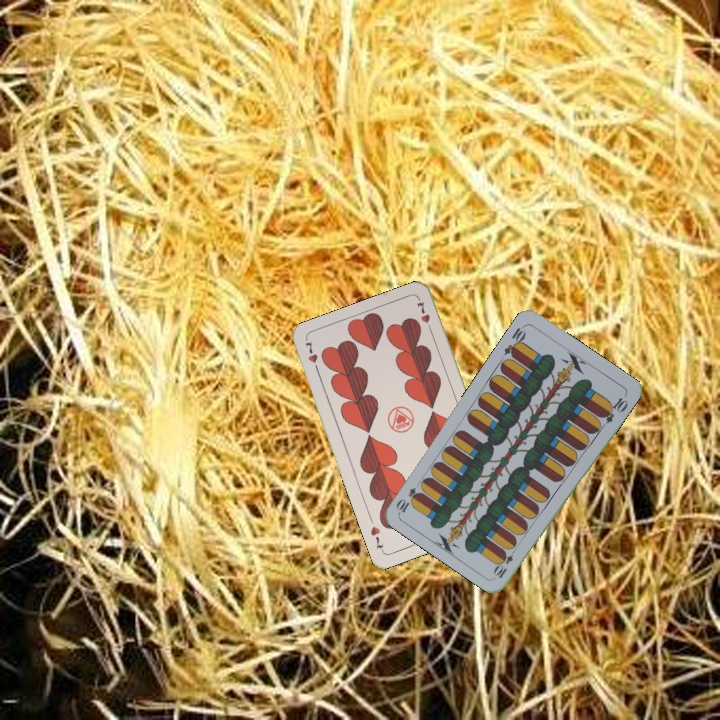E10: (500, 321, 529, 360), (490, 543, 519, 581)
H7: (301, 337, 322, 376)
